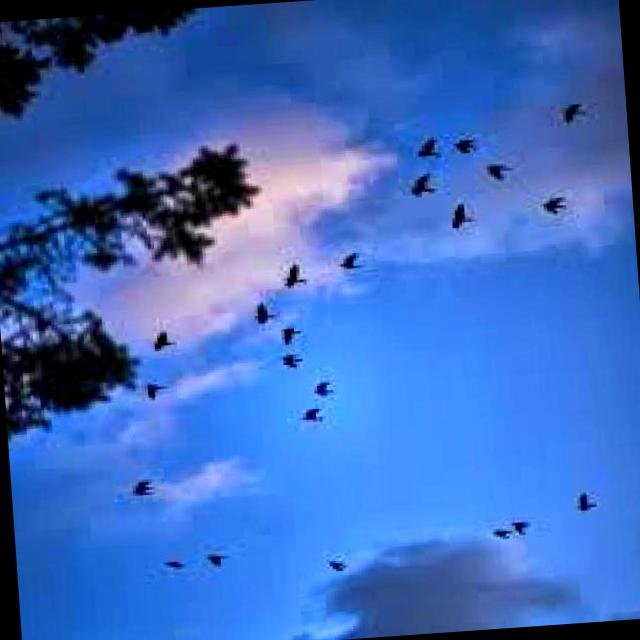bird: (148, 307, 198, 369), (109, 466, 166, 518), (124, 370, 190, 410), (500, 498, 542, 558), (446, 187, 488, 246), (448, 114, 493, 164), (394, 123, 439, 172), (238, 278, 274, 339), (480, 148, 520, 202), (548, 96, 594, 142), (538, 188, 586, 229), (338, 228, 370, 286), (564, 482, 606, 524), (270, 344, 320, 379), (272, 316, 319, 352), (198, 538, 238, 580), (404, 166, 442, 209), (302, 369, 343, 404), (153, 545, 191, 582), (320, 545, 356, 584), (296, 402, 338, 432), (486, 504, 510, 556), (278, 256, 314, 290)
